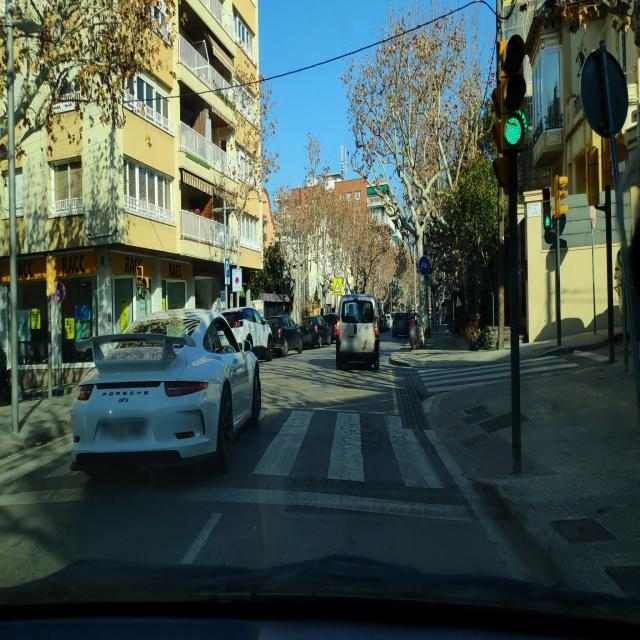bike: (408, 309, 420, 350)
car: (70, 307, 262, 479), (336, 292, 380, 369), (222, 306, 274, 360), (268, 314, 304, 356), (304, 314, 331, 348), (298, 318, 320, 348), (392, 310, 411, 339), (324, 312, 338, 344), (378, 314, 386, 332)
